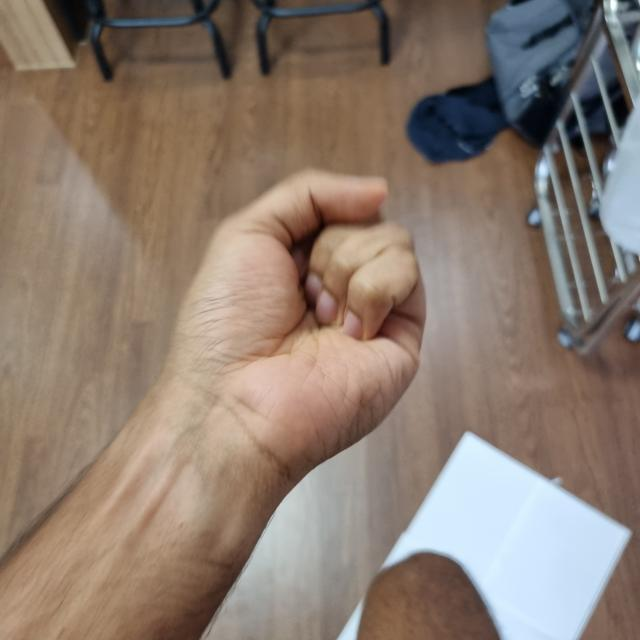Rock: (142, 173, 422, 530)
